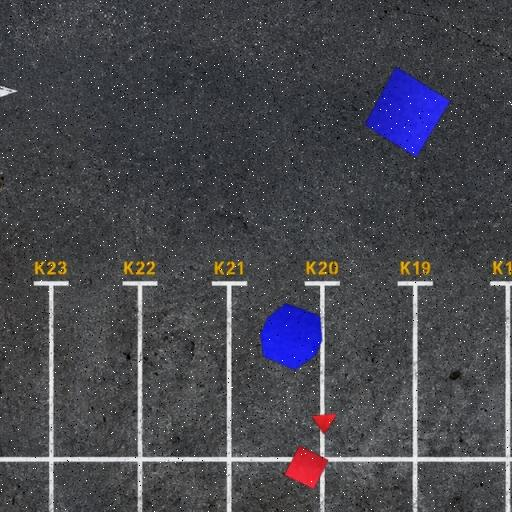BLUE_SQUARE: (364, 66, 451, 158)
RED_SQUARE: (283, 446, 329, 490)
